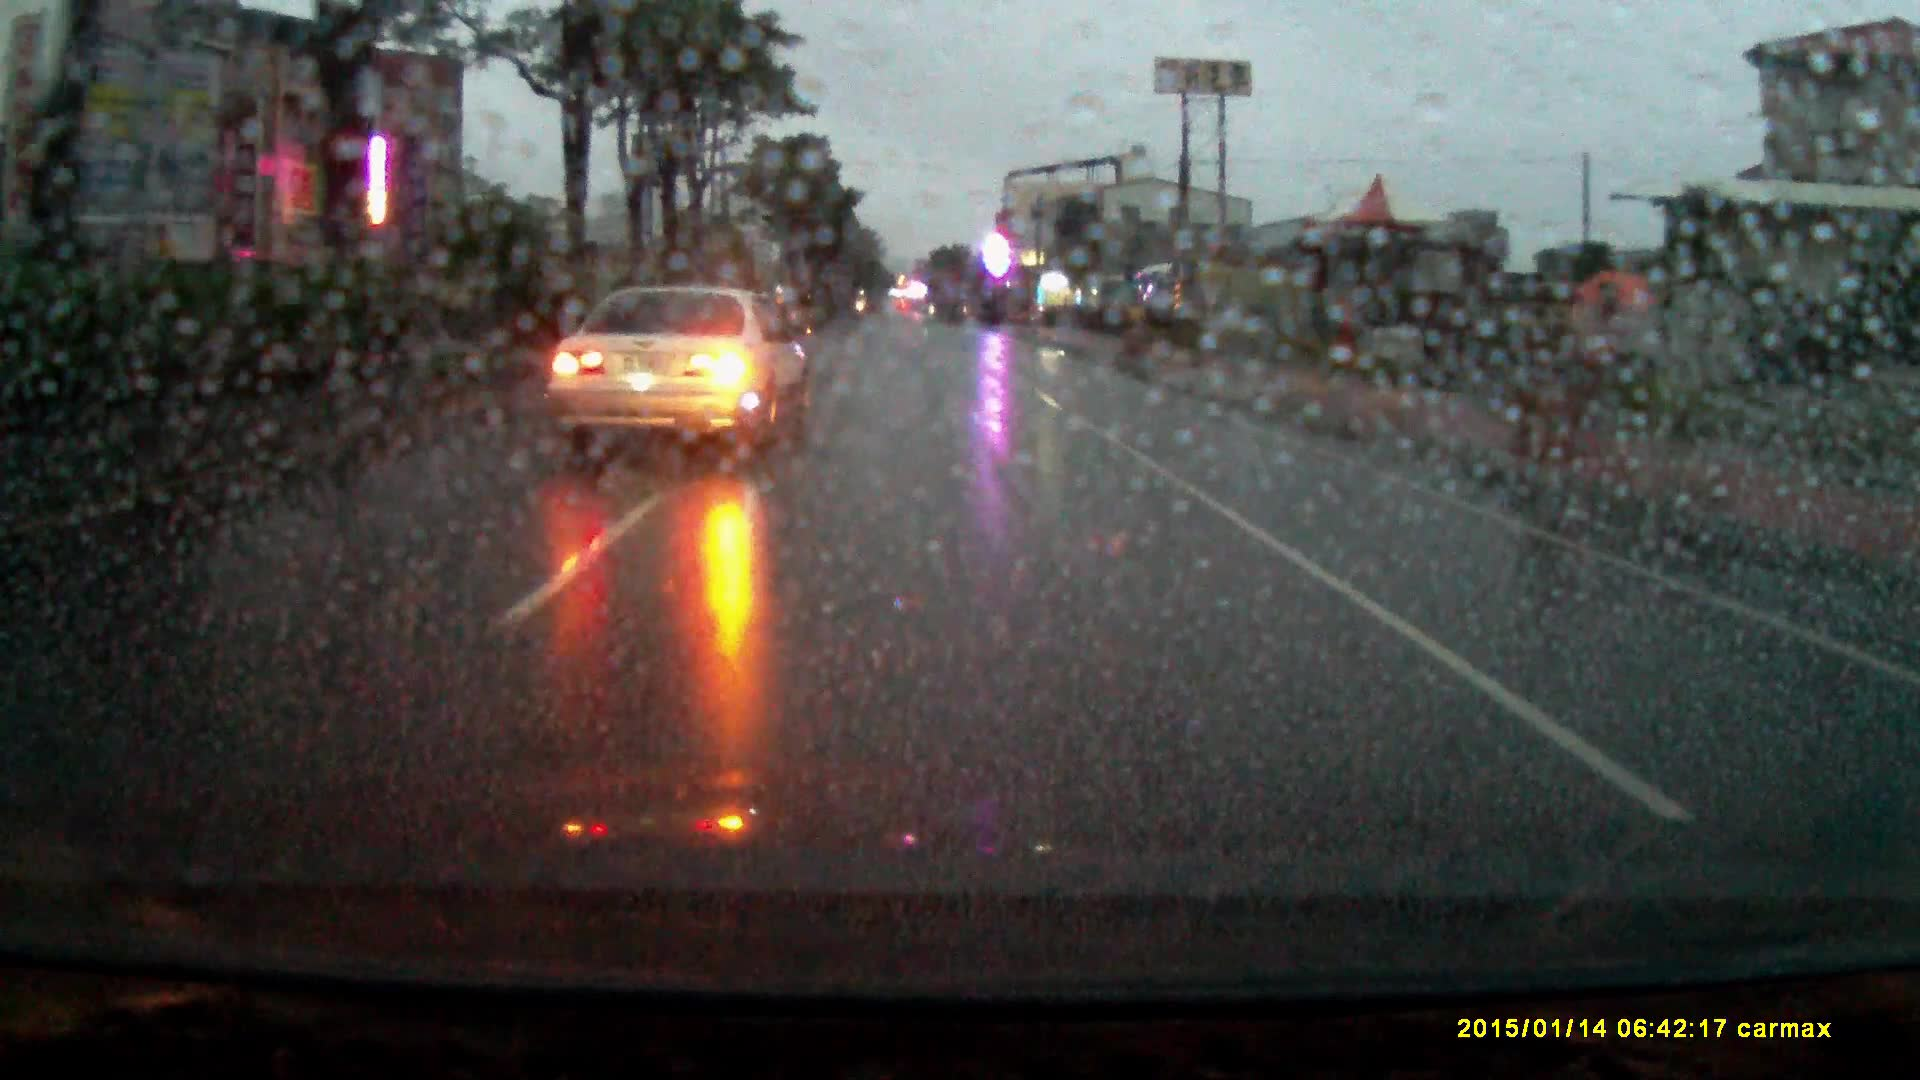pedestrian: (1567, 265, 1666, 480)
vehicle: (541, 286, 814, 466)
